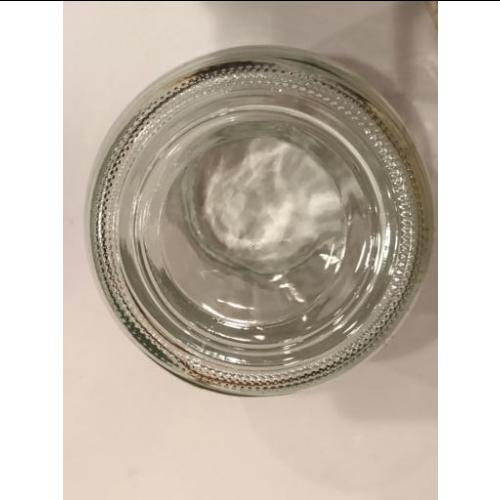glass: (90, 41, 437, 396)
